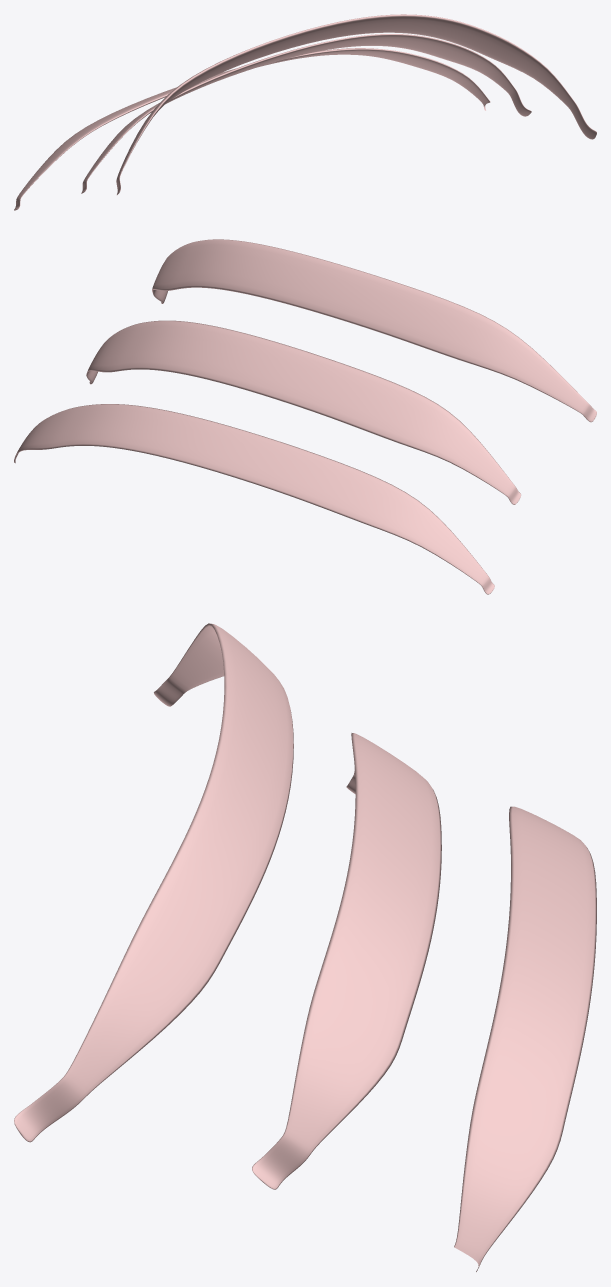
File: left.glb
3 renders of one model, top to bottom at view 1: azimuth 30°, elevation 25°; view 2: azimuth 150°, elevation 25°; view 3: azimuth 270°, elevation 25°, orthographic. The views are drawn at different scales.
Parts seen in each view (by area): view 1: shoe.001; view 2: shoe.001; view 3: shoe.001.
Boxes of the visible parts, bbox=[...] form: shoe.001: bbox=[14, 14, 596, 210]; shoe.001: bbox=[14, 239, 596, 594]; shoe.001: bbox=[14, 623, 596, 1271].
Size of what is drawn, in the model's own units: 11.69 by 4.67 by 7.02.
